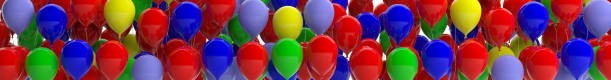Balloon: (560, 38, 594, 80), (61, 39, 95, 80), (202, 38, 234, 80), (271, 38, 303, 80), (456, 38, 488, 80), (96, 39, 128, 80), (421, 39, 453, 80), (517, 2, 550, 41), (36, 4, 68, 44), (171, 2, 203, 42), (307, 36, 337, 76), (384, 4, 414, 44), (137, 8, 168, 46), (237, 42, 268, 80), (239, 1, 269, 39), (2, 1, 35, 35), (168, 47, 202, 80), (450, 1, 482, 36), (484, 9, 515, 45), (103, 1, 136, 34), (350, 46, 382, 80), (25, 48, 58, 80), (527, 47, 559, 80), (583, 1, 611, 38), (387, 47, 418, 80), (305, 1, 334, 36), (334, 15, 363, 50), (273, 6, 303, 39), (132, 54, 164, 80), (492, 54, 524, 80), (416, 1, 448, 25), (207, 1, 237, 26), (1, 48, 24, 80), (70, 1, 98, 27), (552, 1, 582, 24)
